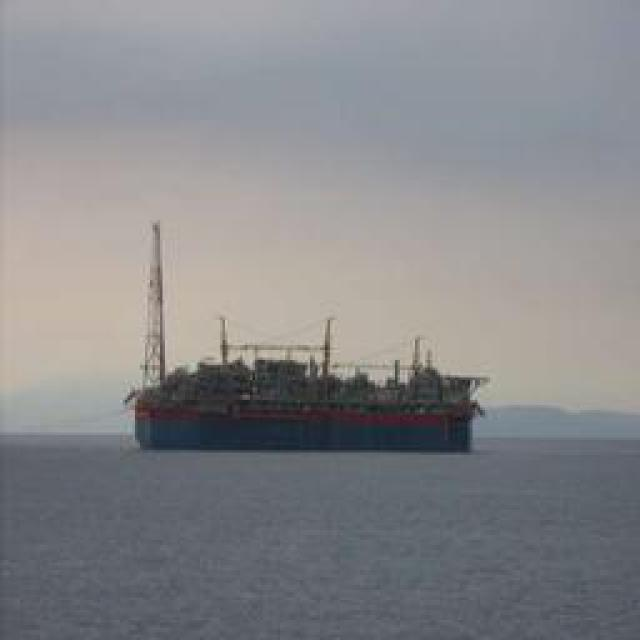Ship: (131, 331, 489, 451)
